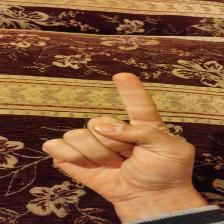five: (40, 70, 203, 198)
